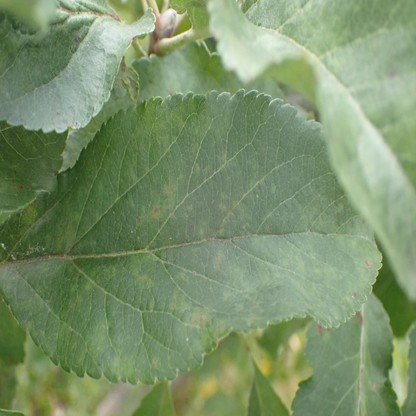powdery_mildew: (70, 24, 92, 52)
scab: (338, 219, 379, 276), (224, 261, 283, 294), (308, 198, 344, 235), (80, 320, 109, 361), (125, 254, 155, 290), (169, 296, 206, 325), (136, 104, 172, 133), (293, 241, 320, 279), (216, 193, 238, 237), (55, 212, 79, 250), (15, 285, 48, 310), (85, 266, 116, 289), (342, 277, 367, 301), (136, 205, 161, 226), (113, 353, 132, 379), (19, 204, 36, 227), (163, 183, 178, 195), (0, 180, 12, 195), (212, 251, 221, 271), (324, 262, 336, 277), (43, 174, 54, 190), (45, 229, 53, 249), (219, 151, 229, 167), (177, 272, 190, 284), (321, 330, 330, 343), (177, 118, 184, 131), (194, 163, 201, 176), (148, 298, 154, 313), (38, 157, 45, 168)
